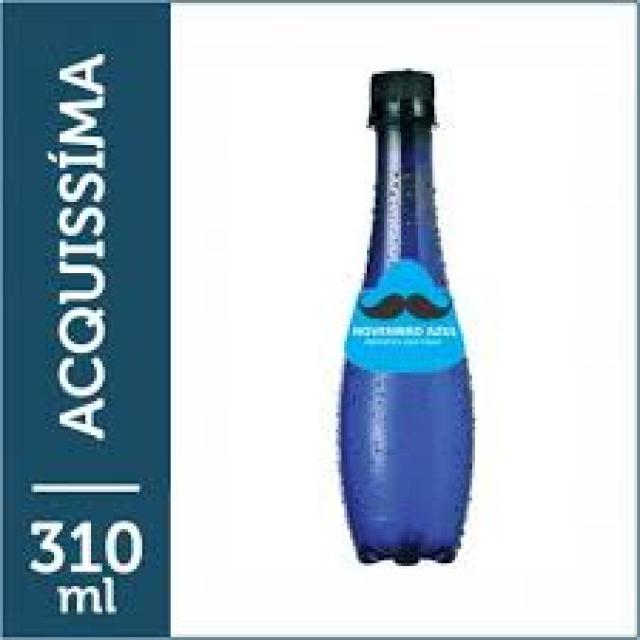bottom: (339, 528, 474, 574)
cap: (350, 68, 446, 132)
